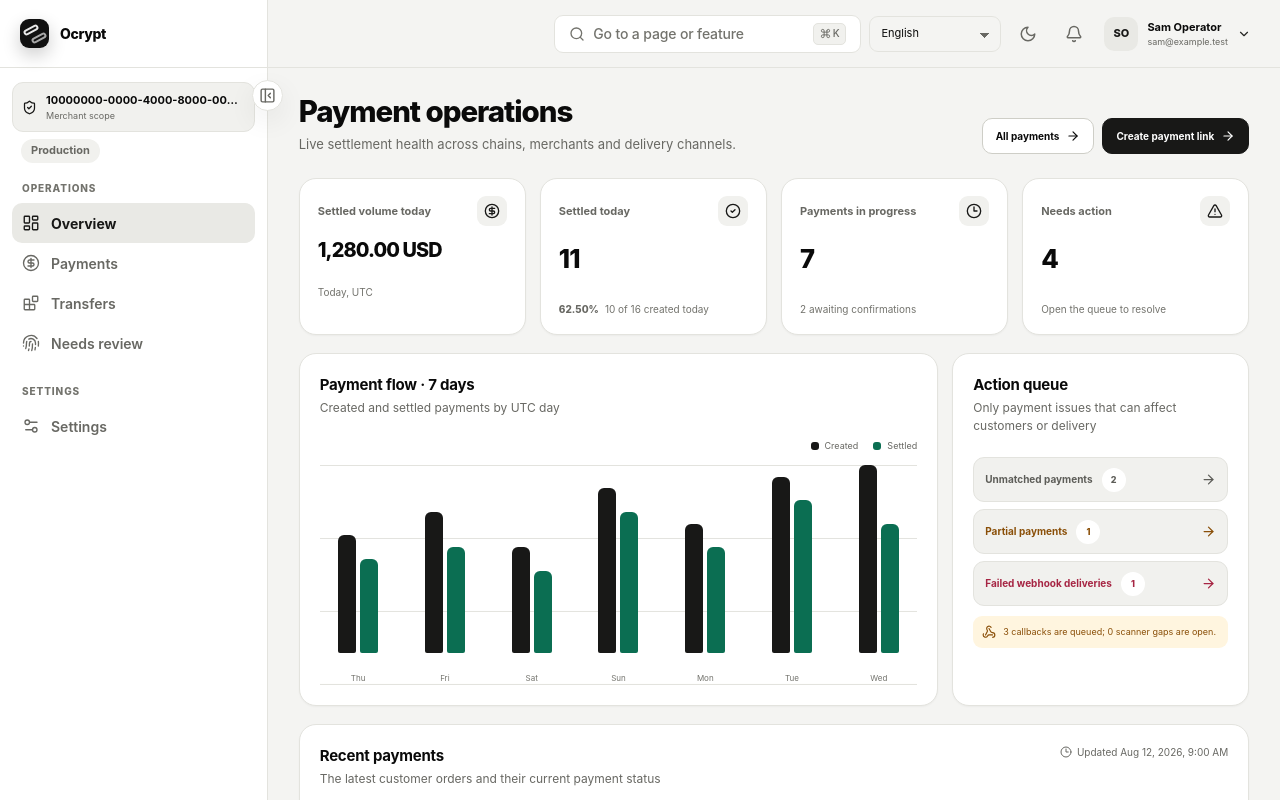
it: admin application › revokes a production session before returning to the sign-in state
This screenshot has width=1280, height=800.
Press Enter in the button with aria-label "Account", box [1101,14,1254,54]
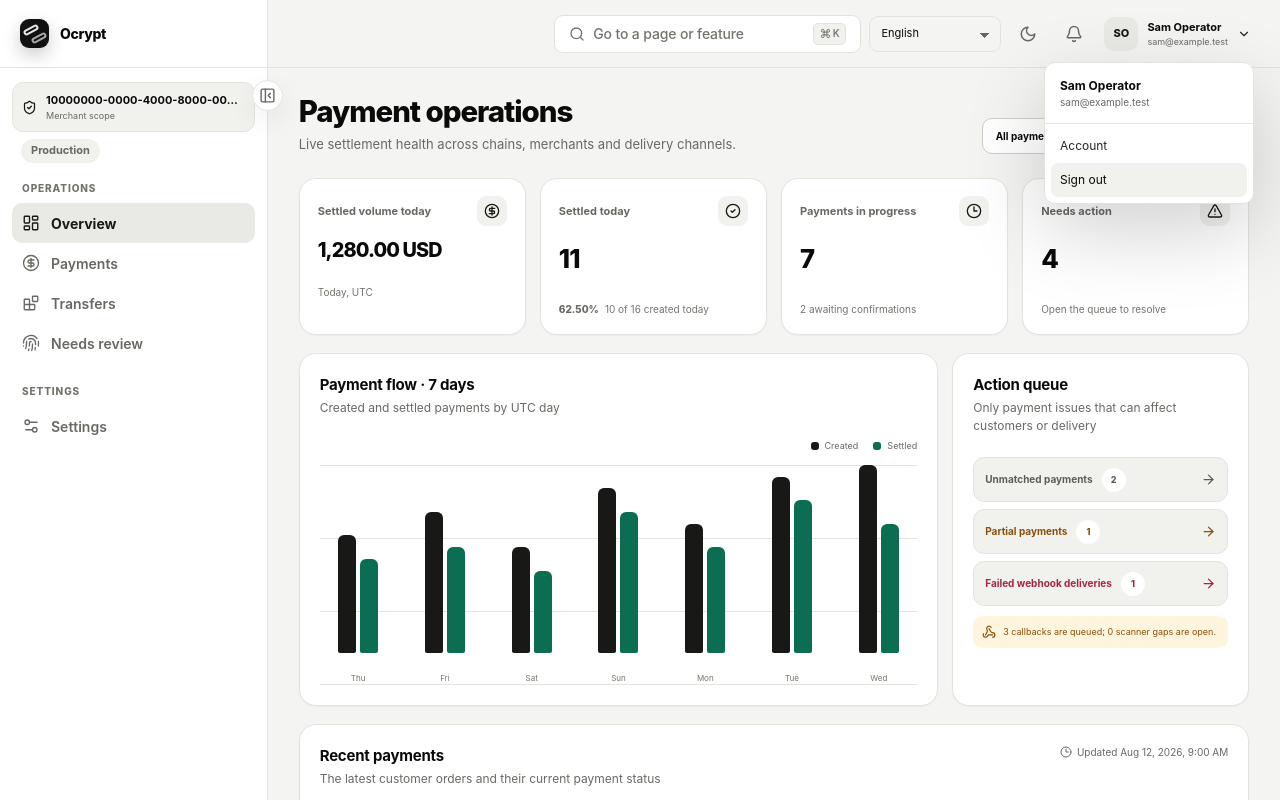
Click the menu item "Sign out": {"x": 1149, "y": 180} [1051,163,1247,197]
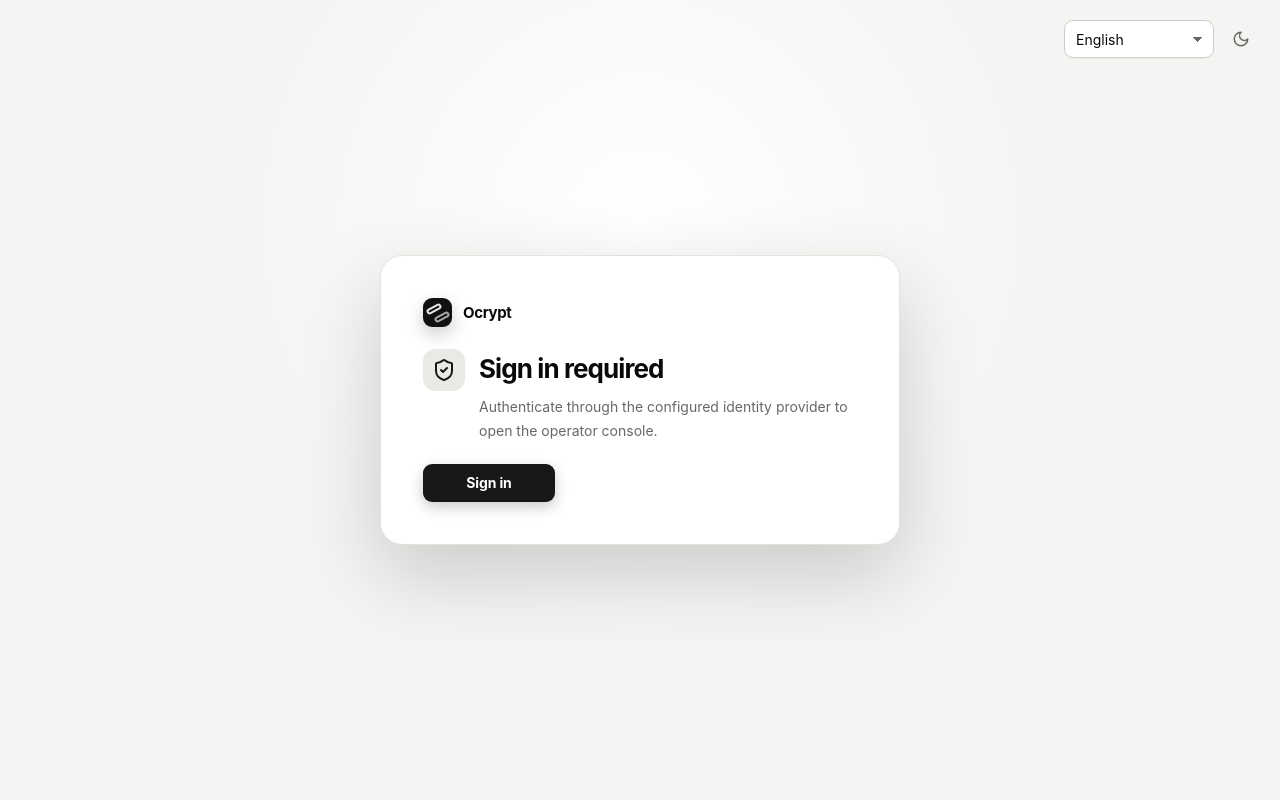
Result: the heading "Sign in required" is shown at [479,353,664,384]
